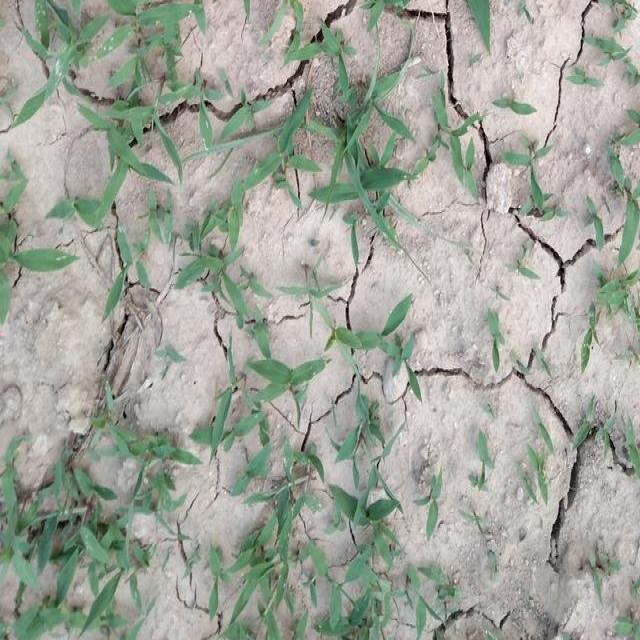weed: (10, 429, 183, 637), (322, 274, 418, 640), (202, 350, 314, 640), (18, 15, 201, 177), (255, 86, 403, 236), (178, 210, 250, 325)
